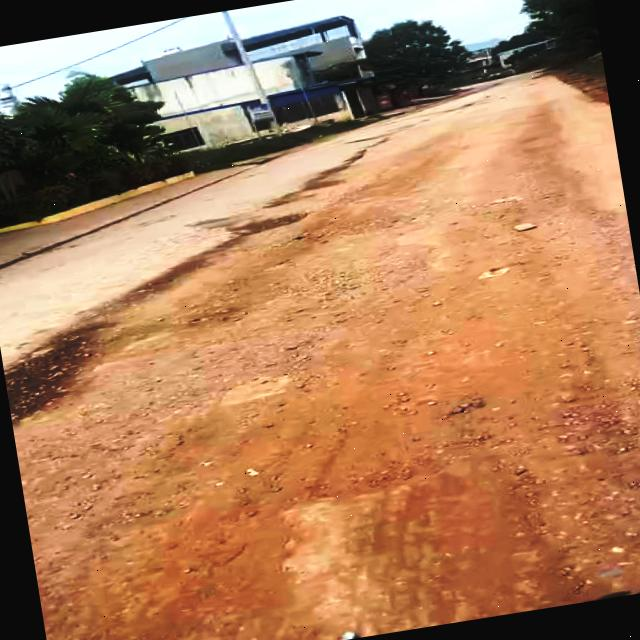pothole: (0, 318, 133, 429), (222, 204, 312, 241)
